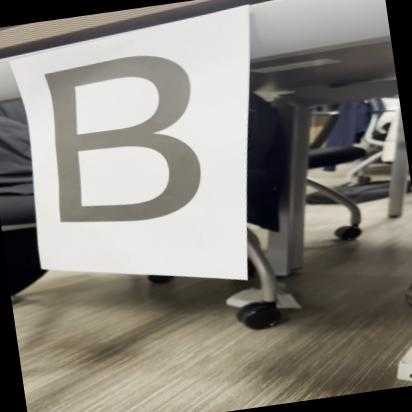seat: (25, 39, 216, 252)
